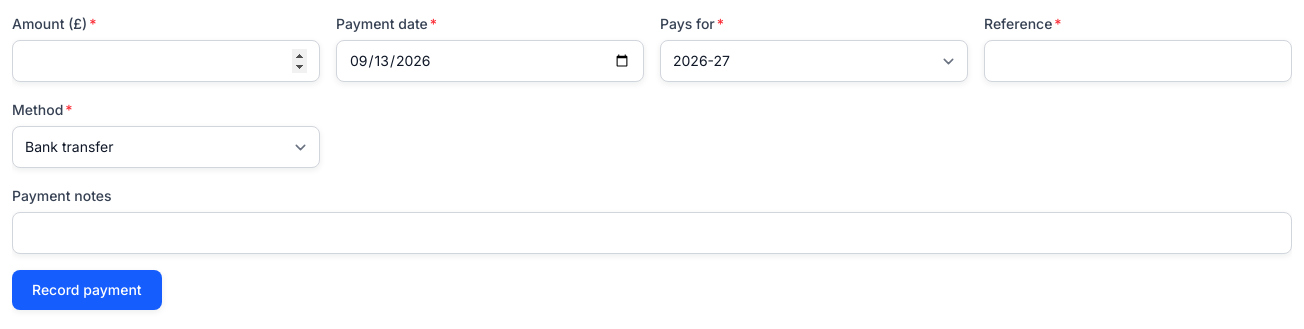
Test: PaymentForm › switches the default year to match a date typed into a prior year
Type "2025-10-01" into the date field labelled "Payment date" at (490, 61), box [336,40,644,82]
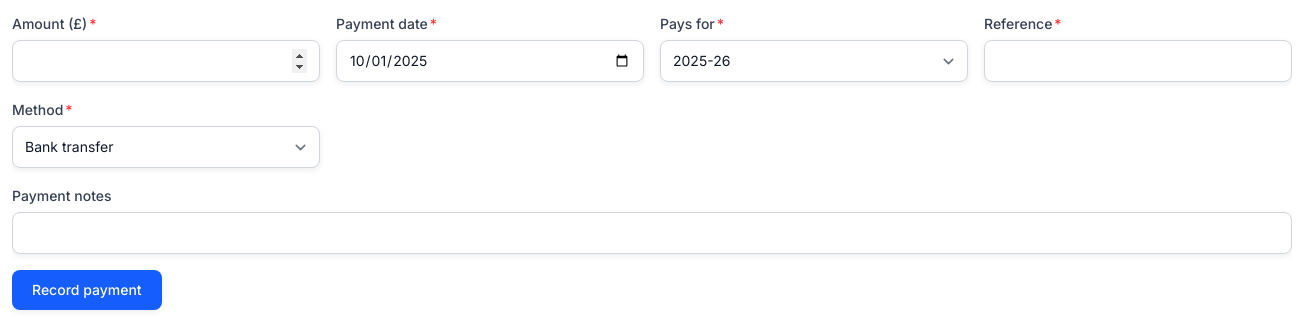
Expected: the dropdown labelled "Pays for" shows "2025-26", [660,40,968,82]
